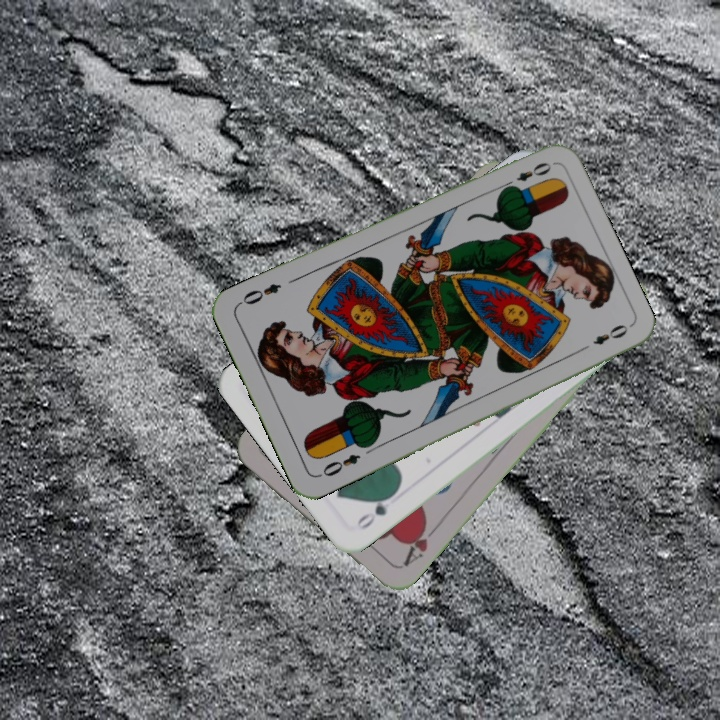EO: (499, 158, 554, 192), (314, 450, 363, 480)
GO: (352, 488, 399, 533)
HA: (396, 517, 440, 570)
